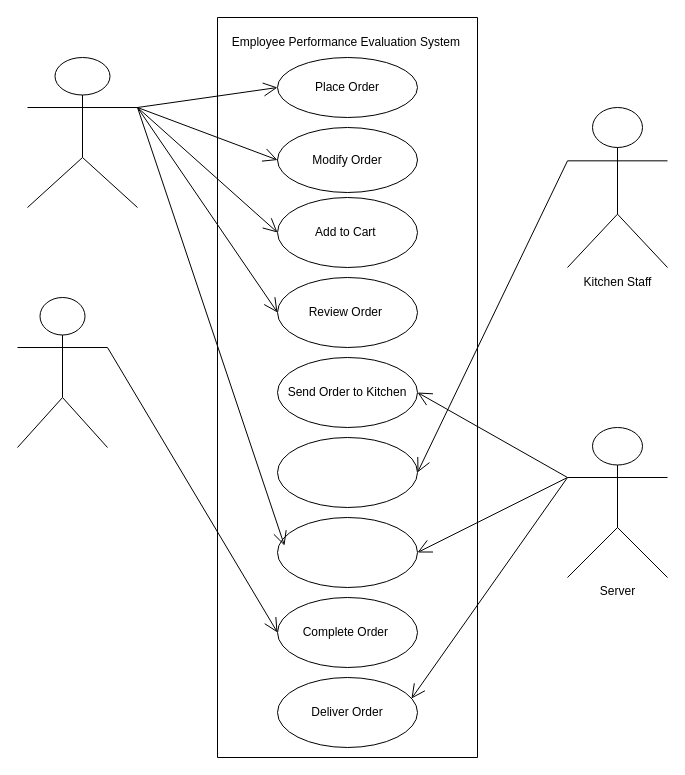
The diagram is 685 pixels wide and 775 high, and some of its shapes have lost their labels. Each missing label, with the centre of its shape:
"Customer" belongs at pixel 82 132.
"Prepare Order" belongs at pixel 347 472.
"System" belongs at pixel 62 372.
"Track Order Status" belongs at pixel 347 552.
